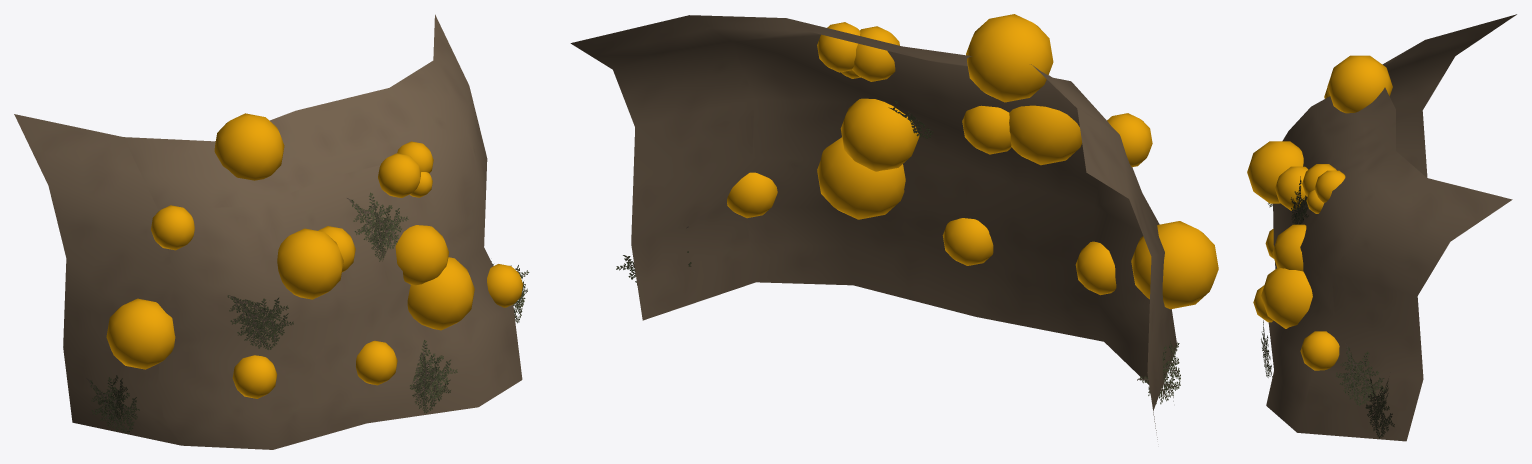
The model's file is BubblesPileLarge.fbx.
The picture shows the model from 3 angles, left to right: view 1: azimuth 30°, elevation 25°; view 2: azimuth 150°, elevation 25°; view 3: azimuth 270°, elevation 25°; orthographic projection. The views are drawn at different scales.
Parts seen in each view (by area): view 1: Plane.006; view 2: Plane.006; view 3: Plane.006.
Part boxes in pixels (<box>): Plane.006: <box>14,14,529,449</box>; Plane.006: <box>570,14,1218,439</box>; Plane.006: <box>1247,14,1516,441</box>.
Bounding box in the file's own units: 969 × 617 × 551.
